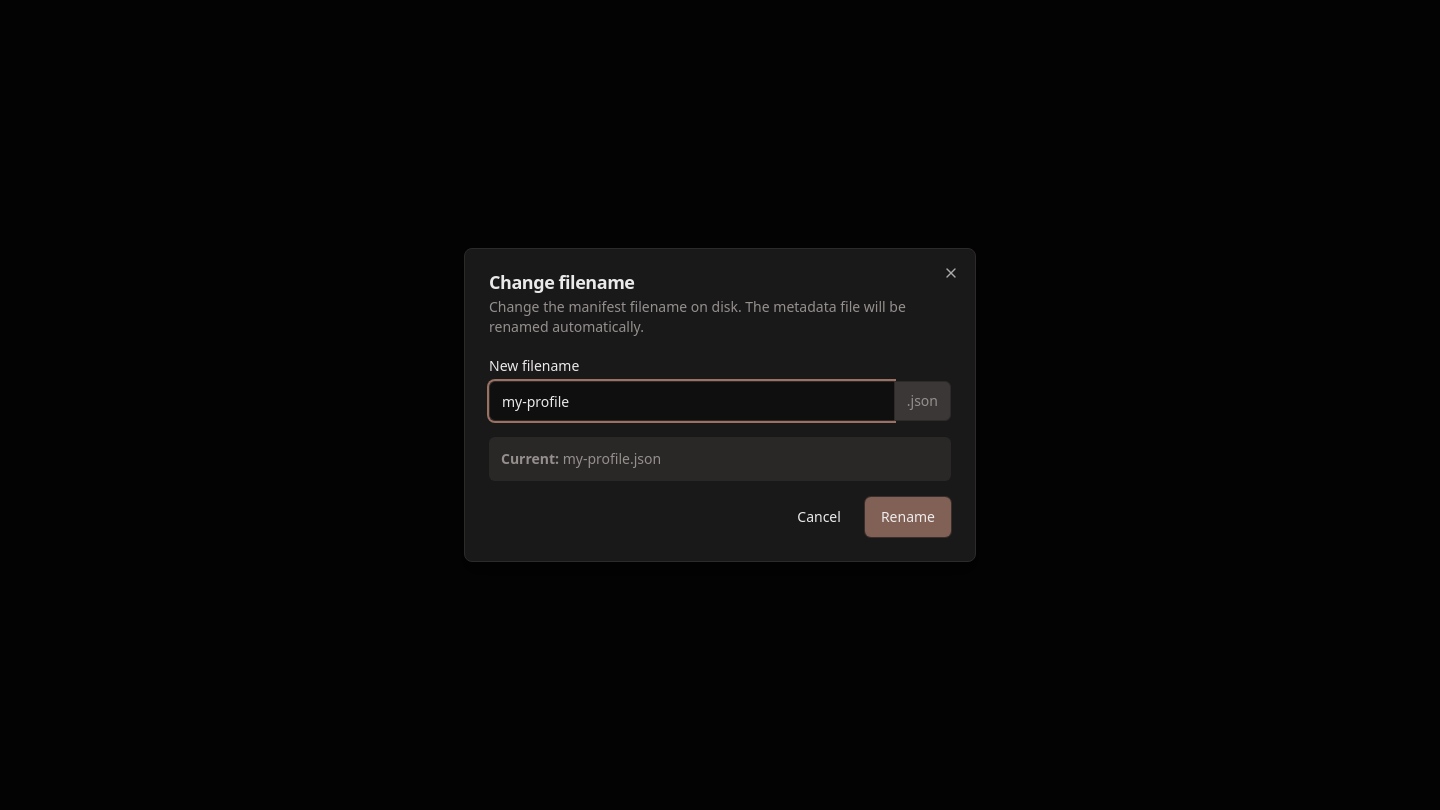
Test: RenameFileModal › Basename validation › shows error when basename is empty
Step 1. Clear the field → (691, 401), box [489,381,894,421]
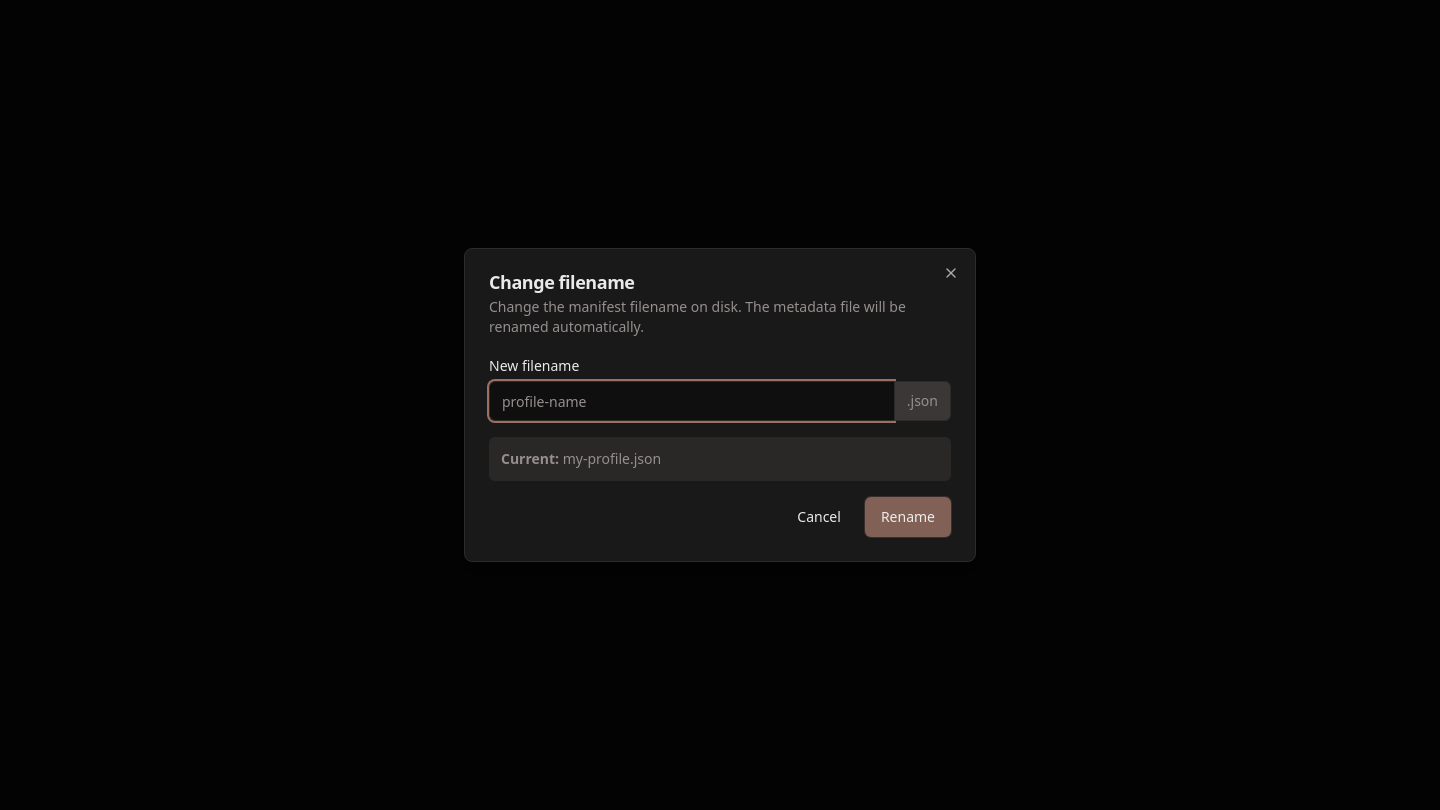
Step 2. Click the button "Rename" → (908, 517), box [865,497,951,537]
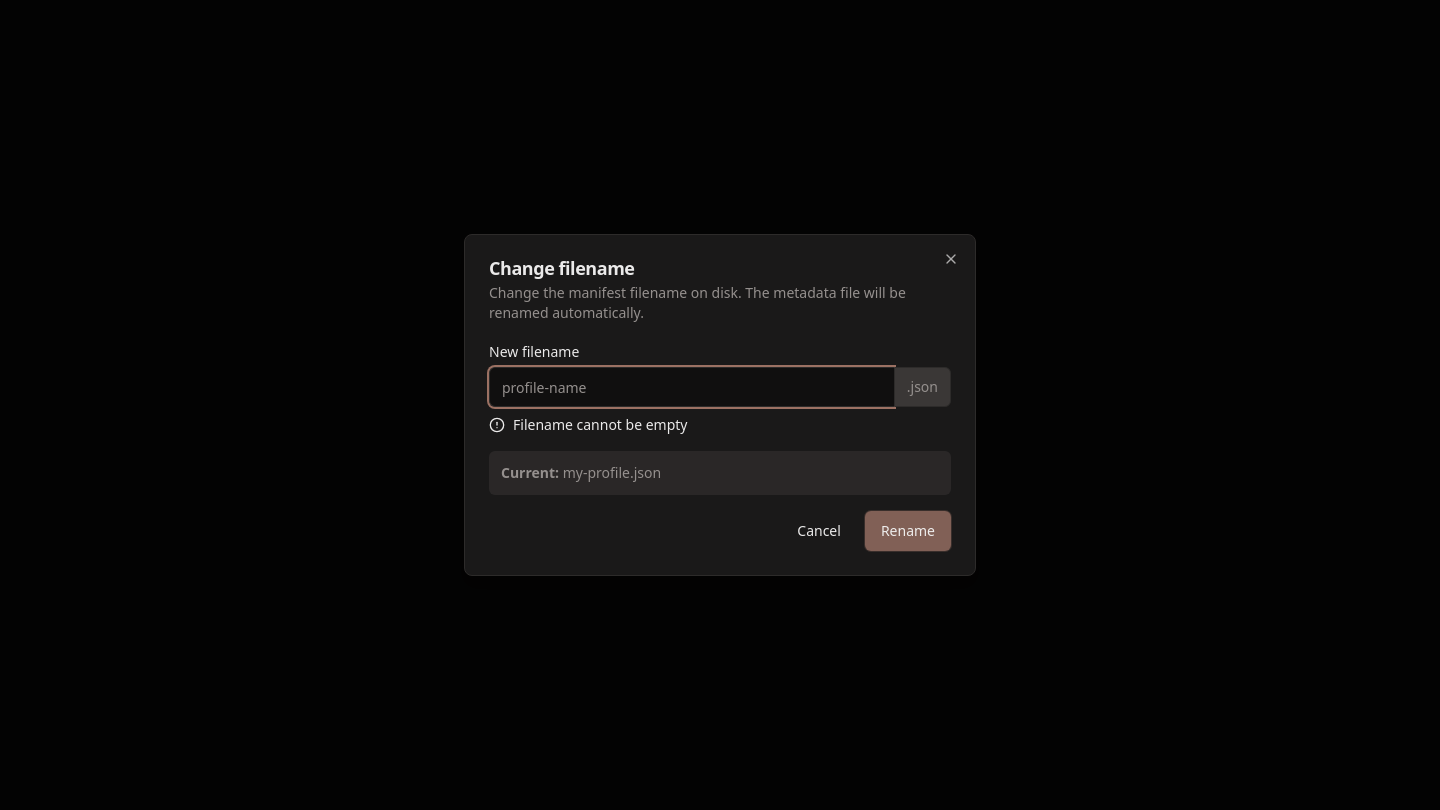
Check: the text "Filename cannot be empty" is shown, box [489,415,688,434]
